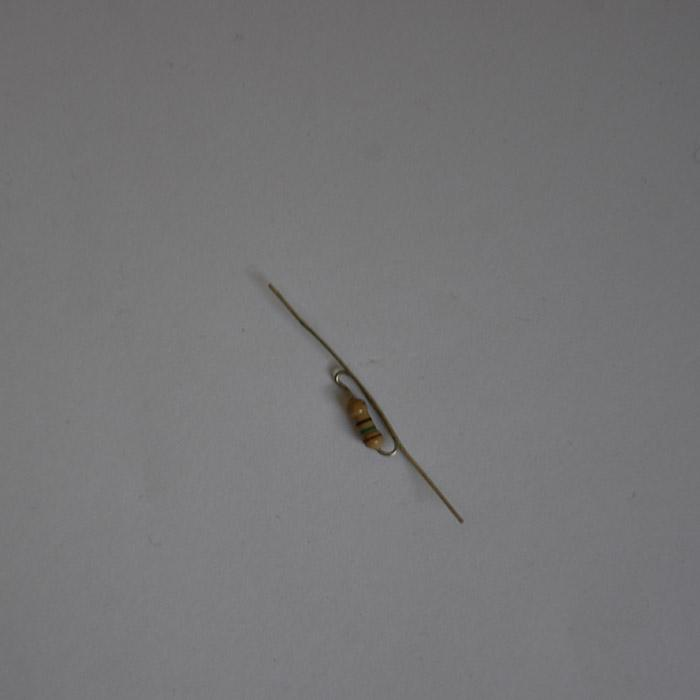resistor: (343, 391, 381, 450)
